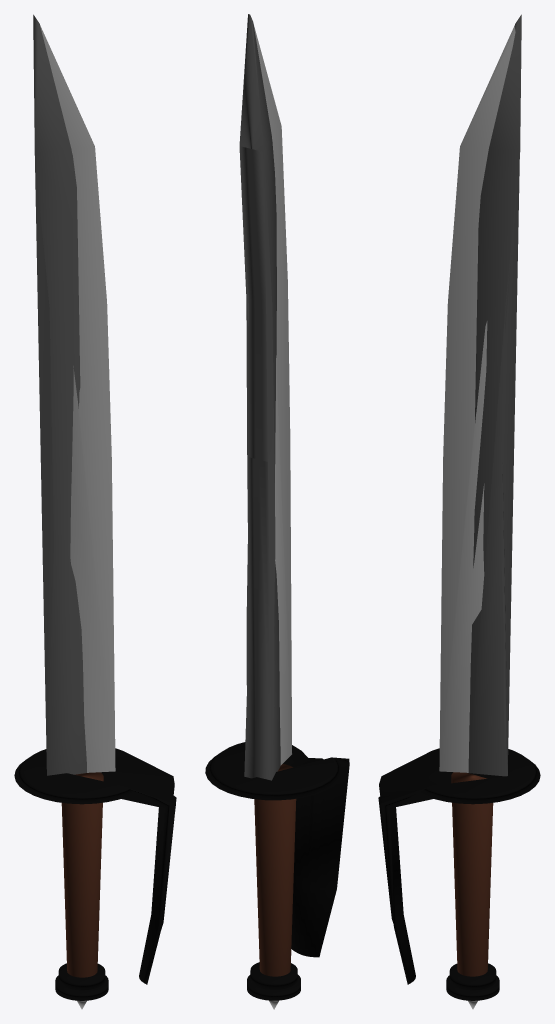
The model's file is Saber.fbx.
The picture shows the model from 3 angles, left to right: view 1: azimuth 90°, elevation 25°; view 2: azimuth 150°, elevation 25°; view 3: azimuth 270°, elevation 25°; orthographic projection.
Parts seen in each view (by area): view 1: Cube.001, Cube, Cylinder.003, Cylinder, Cylinder.002, Cylinder.001; view 2: Cube.001, Cylinder.003, Cube, Cylinder, Cylinder.002, Cylinder.001; view 3: Cube.001, Cube, Cylinder.003, Cylinder, Cylinder.002, Cylinder.001.
Boxes of the visible parts, <box> form: Cube.001: <box>33,14,86,775</box>; Cube: <box>40,25,115,772</box>; Cylinder.003: <box>14,748,176,984</box>; Cylinder: <box>61,772,103,977</box>; Cylinder.002: <box>58,963,105,990</box>; Cylinder.001: <box>55,975,108,1000</box>; Cube.001: <box>239,14,280,780</box>; Cylinder.003: <box>205,742,349,957</box>; Cube: <box>253,24,291,765</box>; Cylinder: <box>254,764,296,976</box>; Cylinder.002: <box>250,962,297,989</box>; Cylinder.001: <box>247,974,300,1000</box>; Cube.001: <box>468,14,521,776</box>; Cube: <box>439,25,515,772</box>; Cylinder.003: <box>378,748,540,984</box>; Cylinder: <box>451,772,493,976</box>; Cylinder.002: <box>449,963,496,990</box>; Cylinder.001: <box>446,975,499,1000</box>.
Size of the model in its own units: 694 by 5635 by 832.
